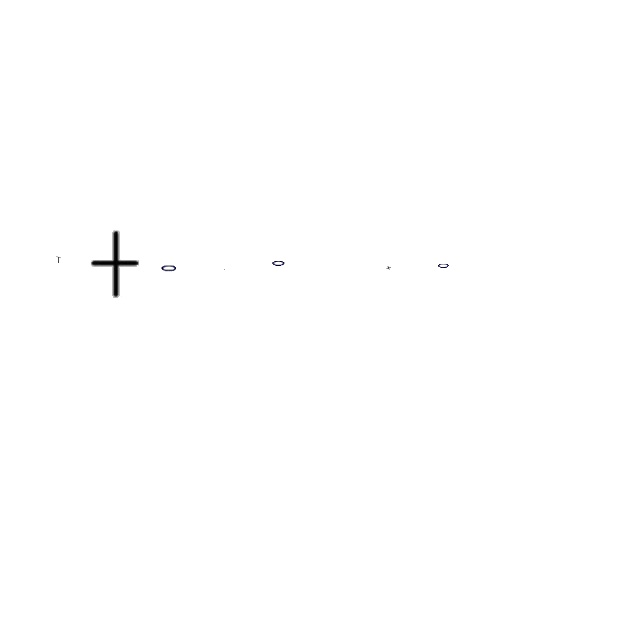chain: (160, 262, 178, 274), (272, 258, 286, 268), (438, 262, 450, 270), (223, 270, 225, 270)
double: (87, 230, 141, 300)
enseble_chain: (56, 256, 62, 264), (386, 266, 392, 270)
